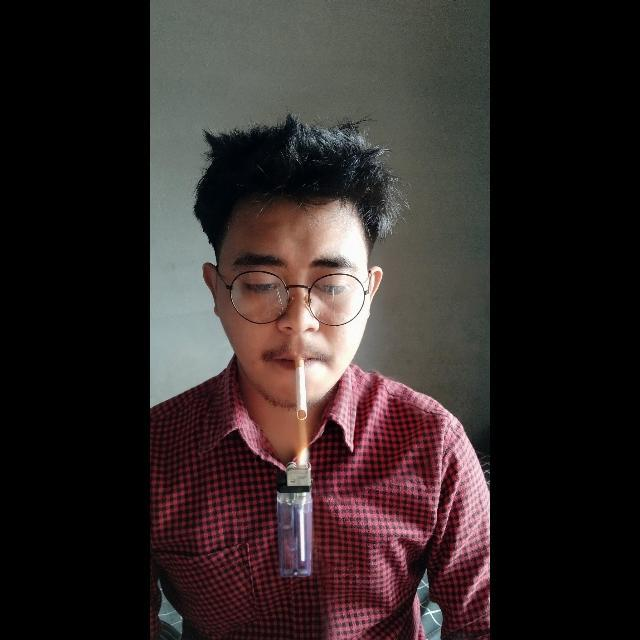rokok: (291, 354, 317, 424)
